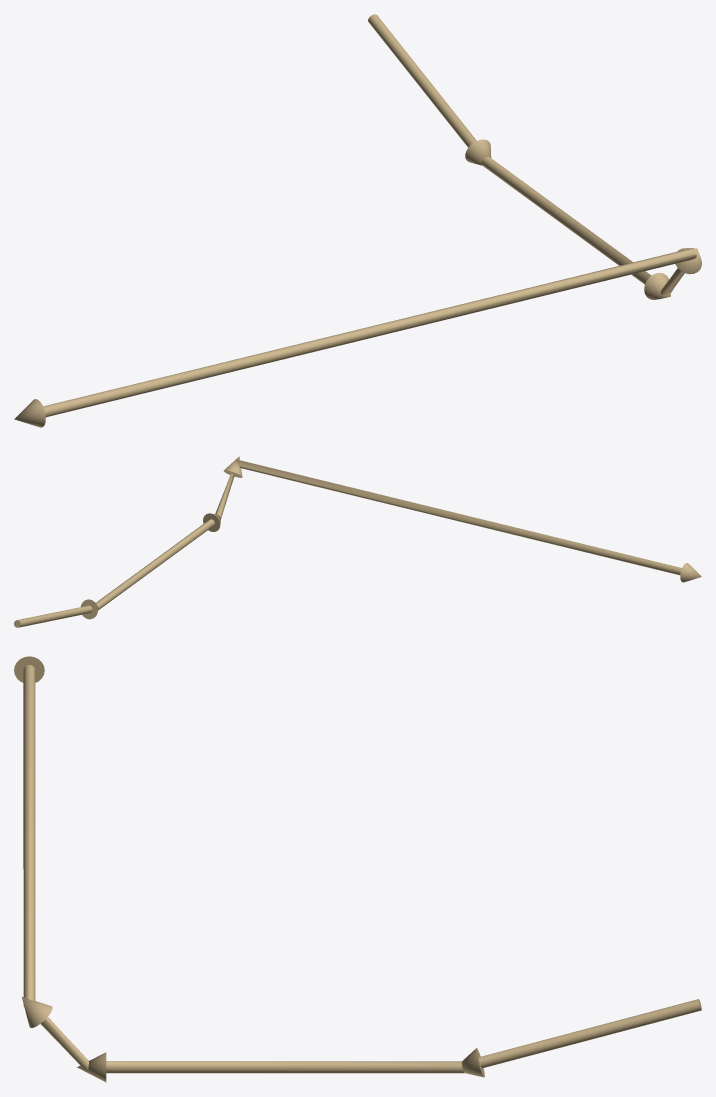
The model's file is bauxite_stockpile_reclaimer_flow.glb.
3 views of the same model, one above another, from view 1: azimuth 30°, elevation 25°; view 2: azimuth 150°, elevation 25°; view 3: azimuth 270°, elevation 25° (orthographic). The views are drawn at different scales.
Visible parts, largest first — view 1: reclaim; view 2: reclaim; view 3: reclaim.
Part boxes in pixels (x1,y1,x2,y2): reclaim: [14, 14, 701, 427]; reclaim: [14, 456, 701, 627]; reclaim: [14, 656, 701, 1082].
Bounding box in the file's own units: 4.24 × 0.506 × 3.49.
